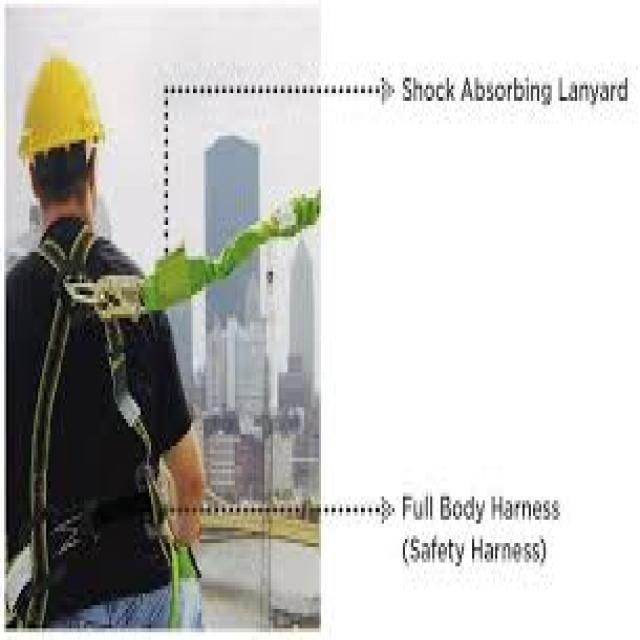harness: (62, 184, 322, 318)
